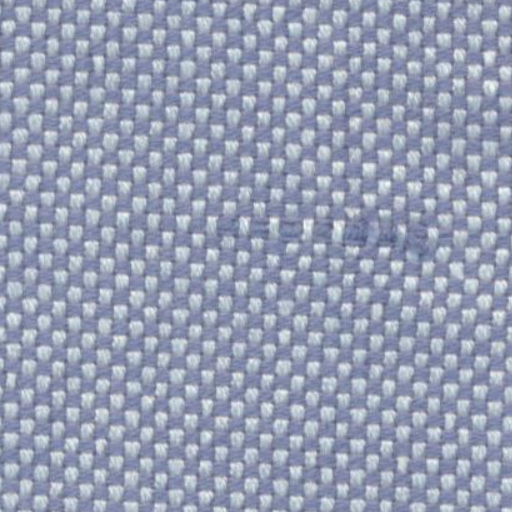TuoSha: (117, 190, 444, 264)
